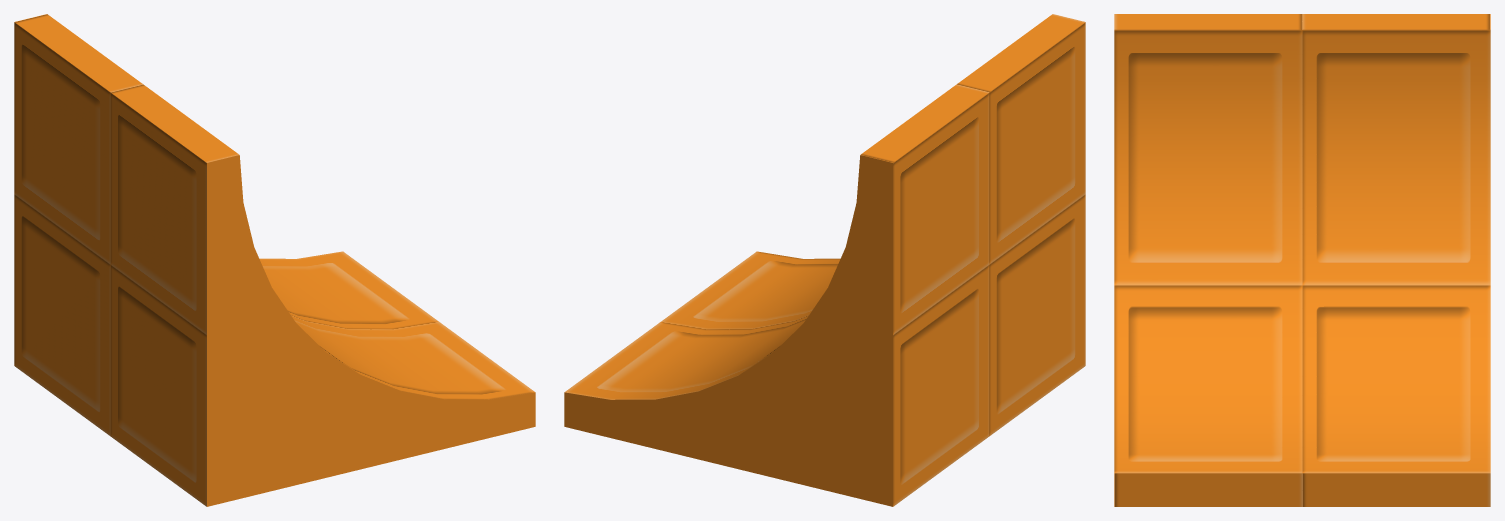
The model's file is HalfPipe_Mesh.fbx.
The picture shows the model from 3 angles, left to right: view 1: azimuth 30°, elevation 25°; view 2: azimuth 150°, elevation 25°; view 3: azimuth 270°, elevation 25°; orthographic projection. The views are drawn at different scales.
Visible parts, largest first — view 1: HalfPipe_Mesh1; view 2: HalfPipe_Mesh1; view 3: HalfPipe_Mesh1.
Part boxes in pixels (box(x1,y1,x2,y2)): HalfPipe_Mesh1: box(14, 14, 535, 506); HalfPipe_Mesh1: box(564, 14, 1085, 506); HalfPipe_Mesh1: box(1114, 14, 1490, 506).
Bounding box in the file's own units: 100 × 100 × 101.
